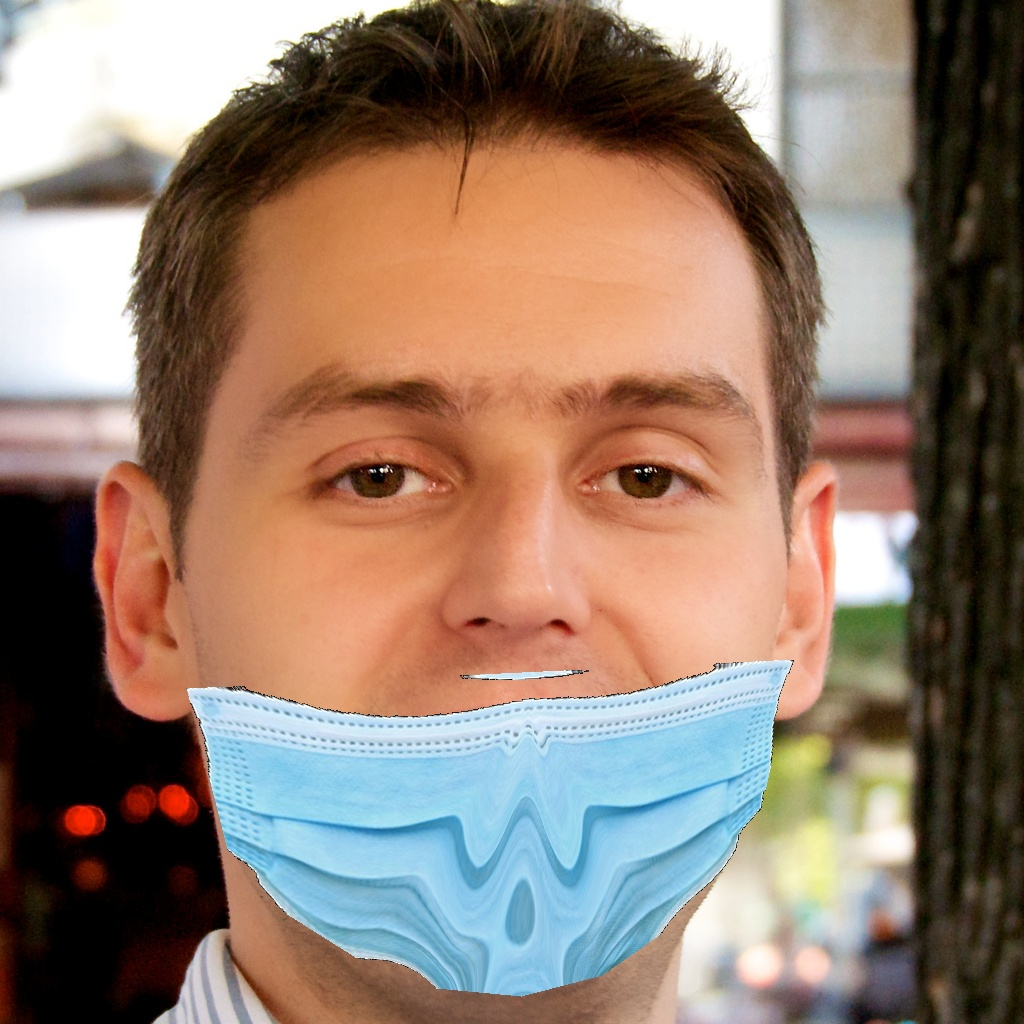mascarilla_mal_puesta: (157, 373, 832, 1018)
